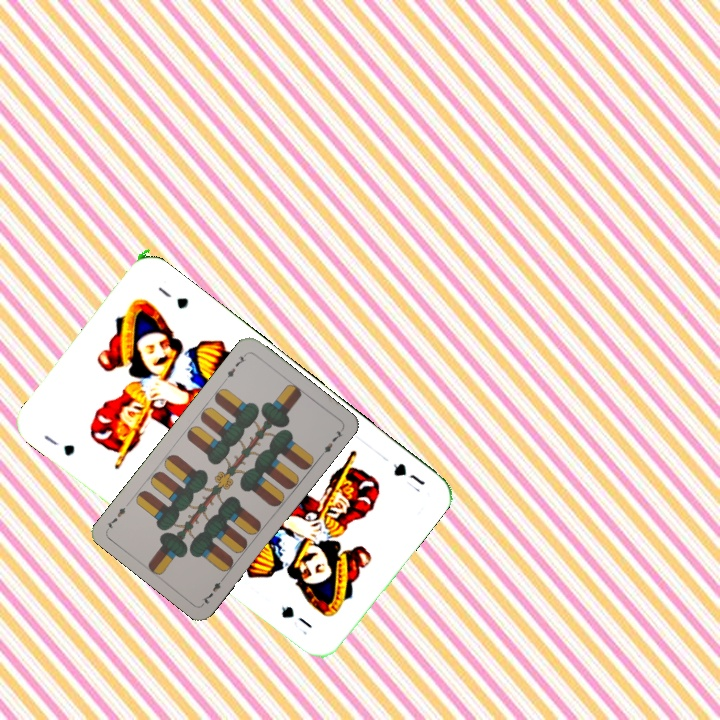E7: (197, 572, 228, 607), (220, 349, 250, 384)
GU: (388, 458, 428, 488), (39, 431, 78, 459)
